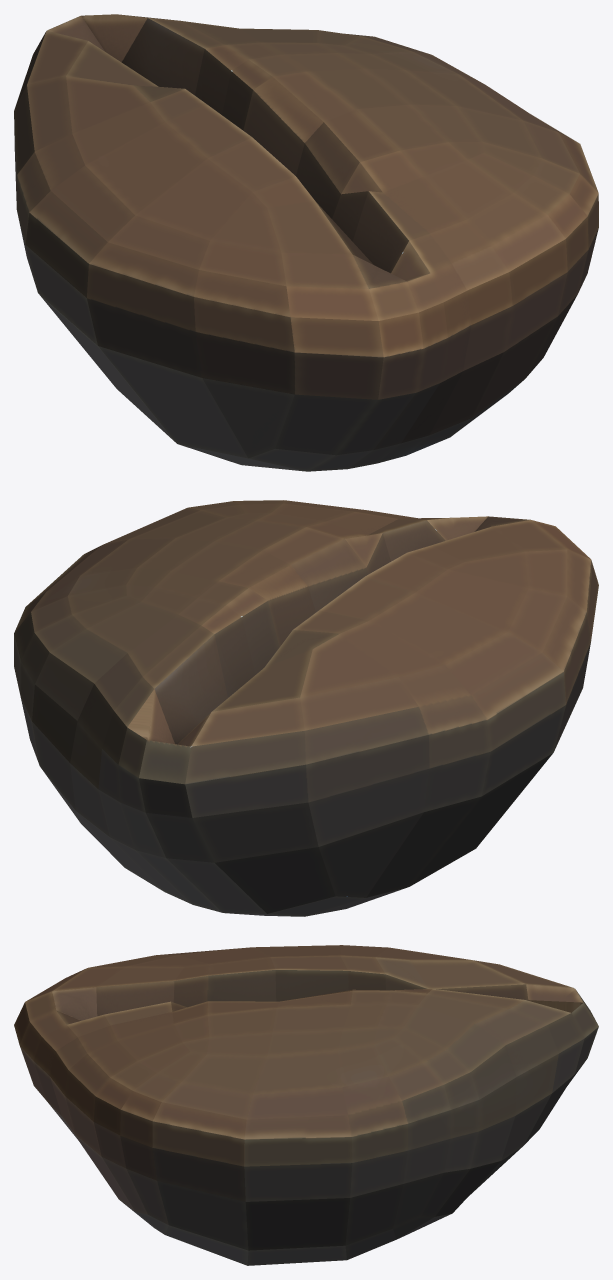
The model's file is coffee_bean_color01.fbx.
The picture shows the model from 3 angles, top to bottom: view 1: azimuth 30°, elevation 25°; view 2: azimuth 150°, elevation 25°; view 3: azimuth 270°, elevation 25°; orthographic projection. The views are drawn at different scales.
Parts seen in each view (by area): view 1: coffee_bean:ZBrush_defualt_group; view 2: coffee_bean:ZBrush_defualt_group; view 3: coffee_bean:ZBrush_defualt_group.
Boxes of the visible parts, x1,y1,x2,y2 form: coffee_bean:ZBrush_defualt_group: (14,14,598,471); coffee_bean:ZBrush_defualt_group: (14,500,598,916); coffee_bean:ZBrush_defualt_group: (14,945,598,1265).
Bounding box in the file's own units: 0.0478 × 0.0304 × 0.0626.
Materials: 1 (1 with a texture image).
